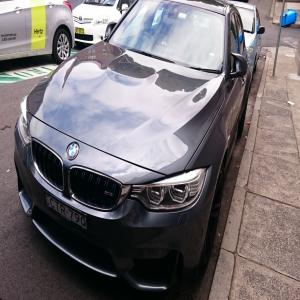Vehicle-registration-plate: (47, 194, 88, 234)
